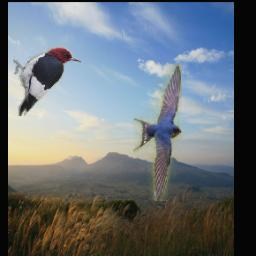Swallow: (134, 64, 183, 201)
Woodpecker: (14, 46, 86, 116)
